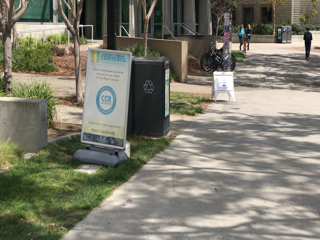Edge: (61, 108, 203, 238)
Obstacle: (76, 39, 134, 167), (128, 50, 175, 144), (204, 69, 240, 106), (300, 25, 315, 59), (237, 22, 250, 52)
